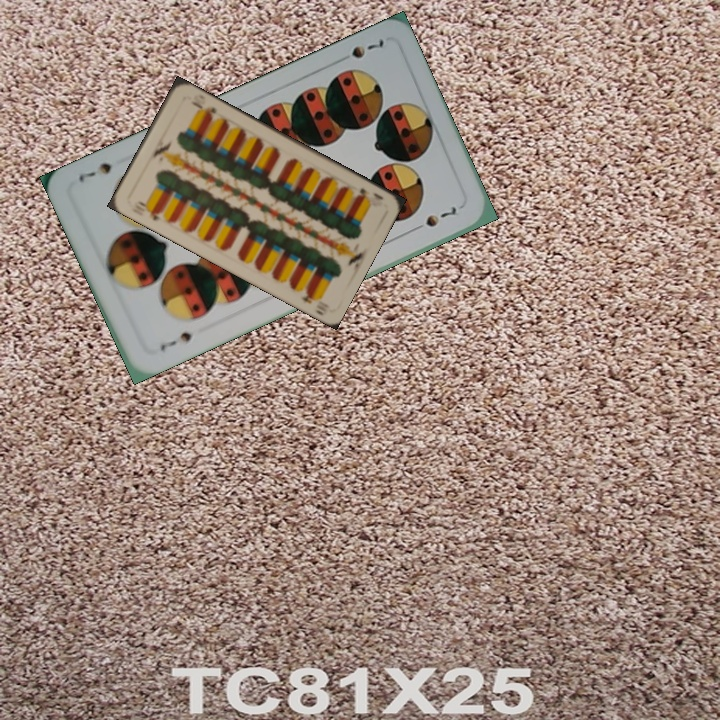E10: (133, 197, 165, 223), (353, 184, 386, 202)
S7: (332, 35, 387, 66), (156, 328, 195, 354)
